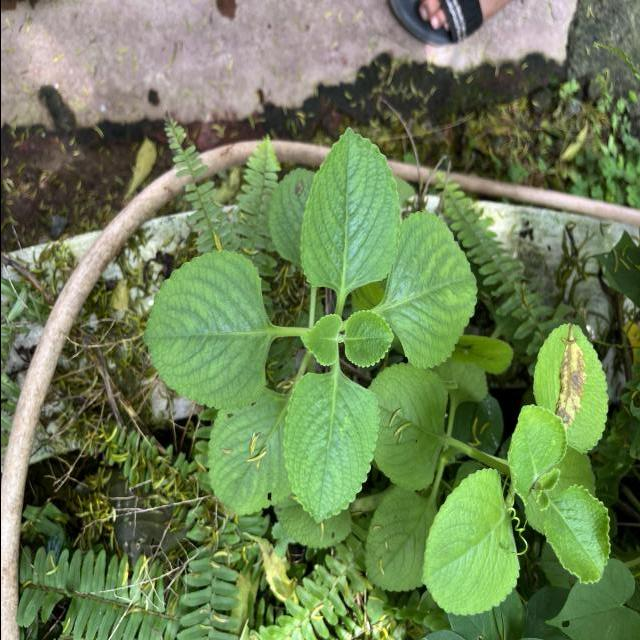Plectranthus barbatus: (140, 249, 267, 412), (298, 124, 401, 294), (418, 466, 520, 617), (280, 370, 380, 524), (385, 209, 478, 371), (205, 384, 292, 516), (366, 361, 448, 492), (531, 322, 609, 456), (362, 486, 438, 594), (542, 484, 612, 586), (506, 403, 566, 506), (342, 308, 394, 368), (298, 313, 342, 367)
